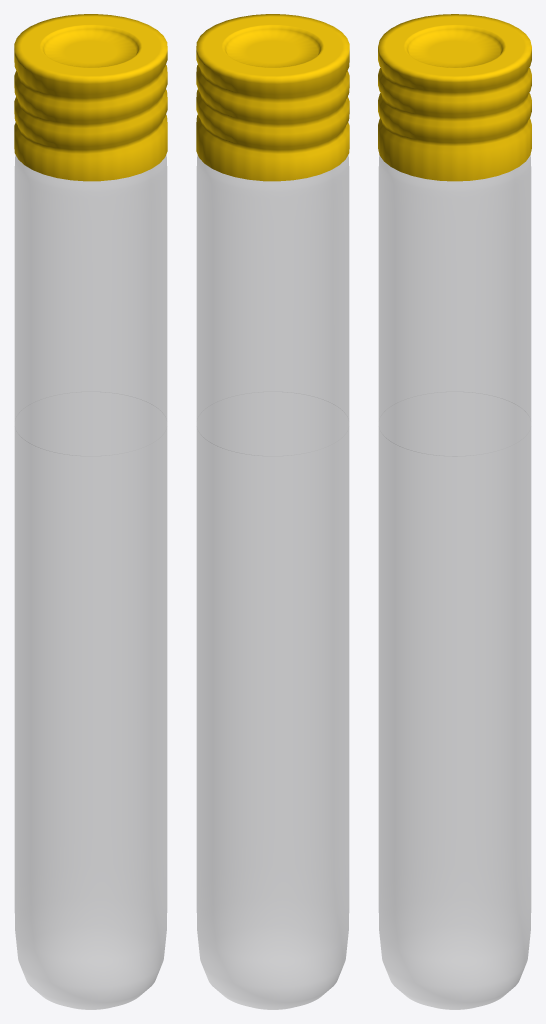
3 renders of one model, left to right at view 1: azimuth 30°, elevation 25°; view 2: azimuth 150°, elevation 25°; view 3: azimuth 270°, elevation 25°, orthographic.
Parts seen in each view (by area): view 1: Circle.002_4, Circle.003_2; view 2: Circle.002_4, Circle.003_2; view 3: Circle.002_4, Circle.003_2.
Boxes of the visible parts, x1=… form: Circle.002_4: x1=14, y1=155, x2=167, y2=1009; Circle.003_2: x1=14, y1=14, x2=167, y2=181; Circle.002_4: x1=196, y1=155, x2=349, y2=1009; Circle.003_2: x1=196, y1=14, x2=349, y2=181; Circle.002_4: x1=378, y1=155, x2=531, y2=1009; Circle.003_2: x1=378, y1=14, x2=531, y2=181.
Size of the model in its own units: 0.2429 by 1.66 by 0.2429.
